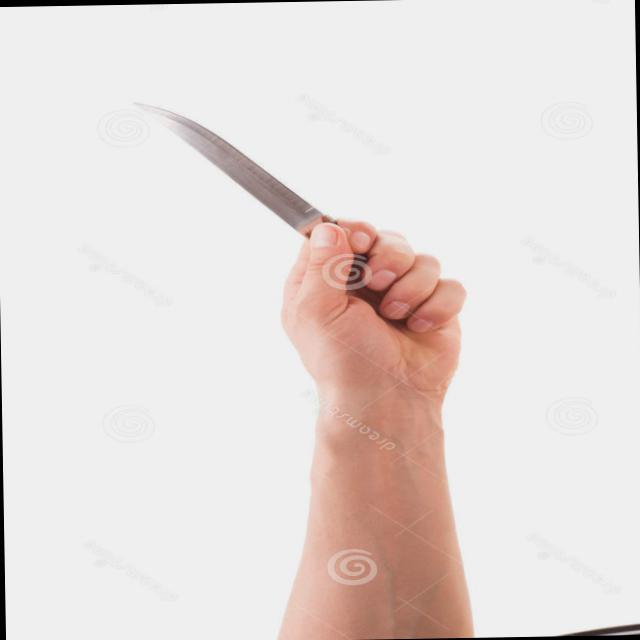knife: (114, 87, 430, 326)
